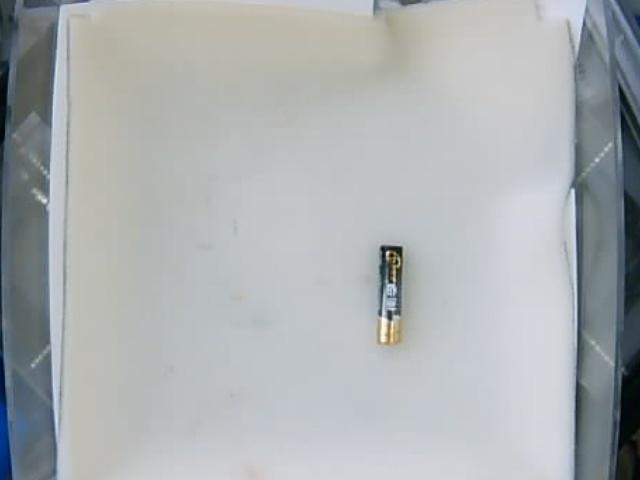Battery: (372, 246, 406, 348)
